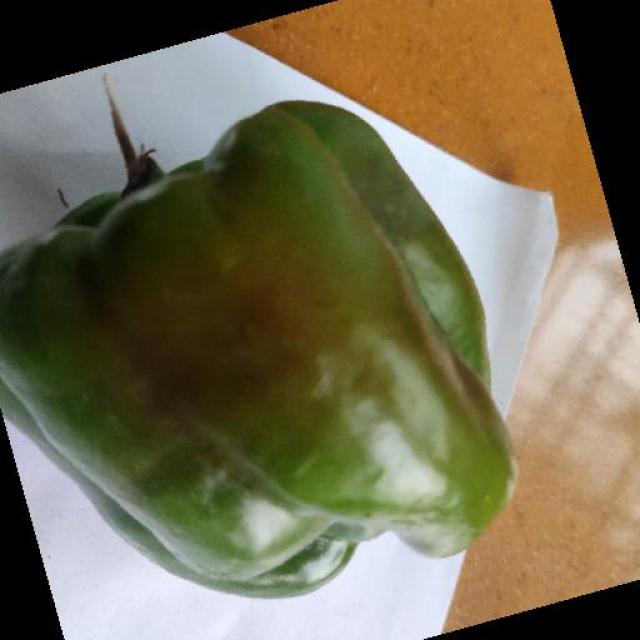Stale_Capsicum: (24, 96, 541, 539)
